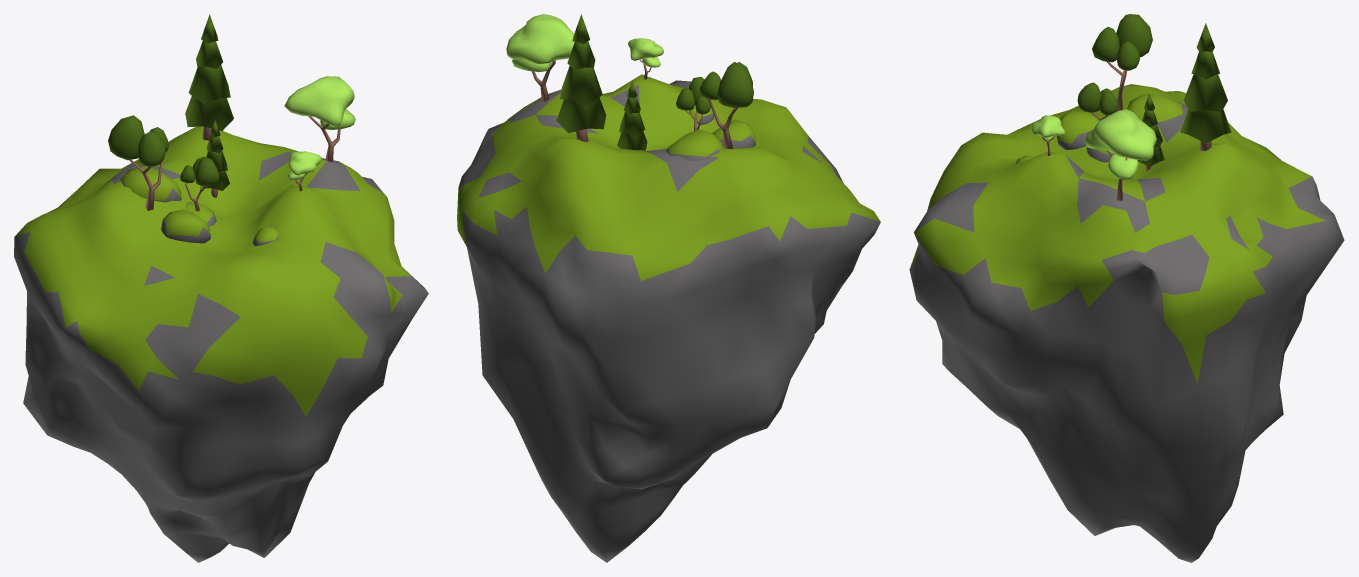
Rendered from flying island.fbx.
3 views of the same model, side by side, from view 1: azimuth 30°, elevation 25°; view 2: azimuth 150°, elevation 25°; view 3: azimuth 270°, elevation 25° (orthographic).
Parts seen in each view (by area): view 1: Icosphere.002, Cone.003, Icosphere.001, Icosphere.006, Icosphere.009, Icosphere.003, Icosphere.004, Cone.001, Icosphere.005; view 2: Icosphere.002, Cone.003, Icosphere.001, Icosphere.006, Cone.001, Icosphere.009, Icosphere.004, Icosphere.005, Icosphere.003; view 3: Icosphere.002, Cone.003, Icosphere.001, Icosphere.006, Icosphere.003, Icosphere.009, Icosphere.004, Cone.001, Icosphere.005.
Boxes of the visible parts, x1,y1,x2,y2 form: Icosphere.002: [14, 126, 428, 562]; Cone.003: [185, 14, 233, 130]; Icosphere.001: [284, 76, 355, 129]; Icosphere.006: [108, 115, 168, 166]; Icosphere.009: [120, 166, 181, 202]; Icosphere.003: [161, 209, 210, 243]; Icosphere.004: [180, 156, 219, 186]; Cone.001: [202, 120, 229, 190]; Icosphere.005: [288, 151, 322, 180]; Icosphere.002: [457, 74, 880, 562]; Cone.003: [556, 14, 606, 133]; Icosphere.001: [506, 14, 574, 71]; Icosphere.006: [699, 62, 753, 107]; Cone.001: [617, 80, 647, 150]; Icosphere.009: [666, 129, 722, 161]; Icosphere.004: [676, 77, 710, 114]; Icosphere.005: [628, 38, 663, 67]; Icosphere.003: [712, 119, 755, 148]; Icosphere.002: [909, 84, 1344, 562]; Cone.003: [1180, 23, 1231, 143]; Icosphere.001: [1084, 109, 1156, 179]; Icosphere.006: [1092, 14, 1152, 70]; Icosphere.003: [1056, 111, 1101, 149]; Icosphere.009: [1127, 94, 1183, 127]; Icosphere.004: [1077, 82, 1118, 114]; Cone.001: [1137, 93, 1164, 166]; Icosphere.005: [1031, 115, 1065, 141].
Size of the model in its own units: 1538 by 2240 by 1609.
